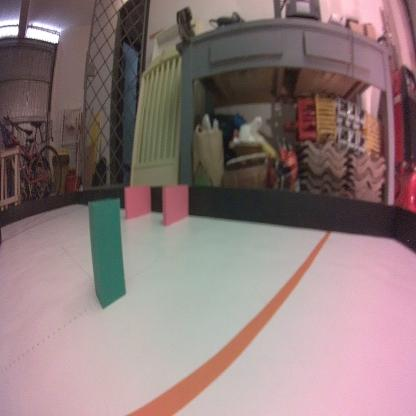green: (87, 195, 129, 310)
magenta: (160, 181, 190, 227), (123, 183, 152, 218)
